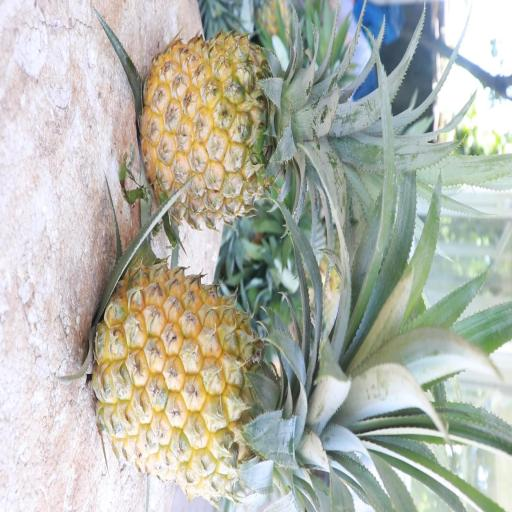Pineapple - v8 v1: (86, 258, 360, 500), (136, 30, 359, 240)
